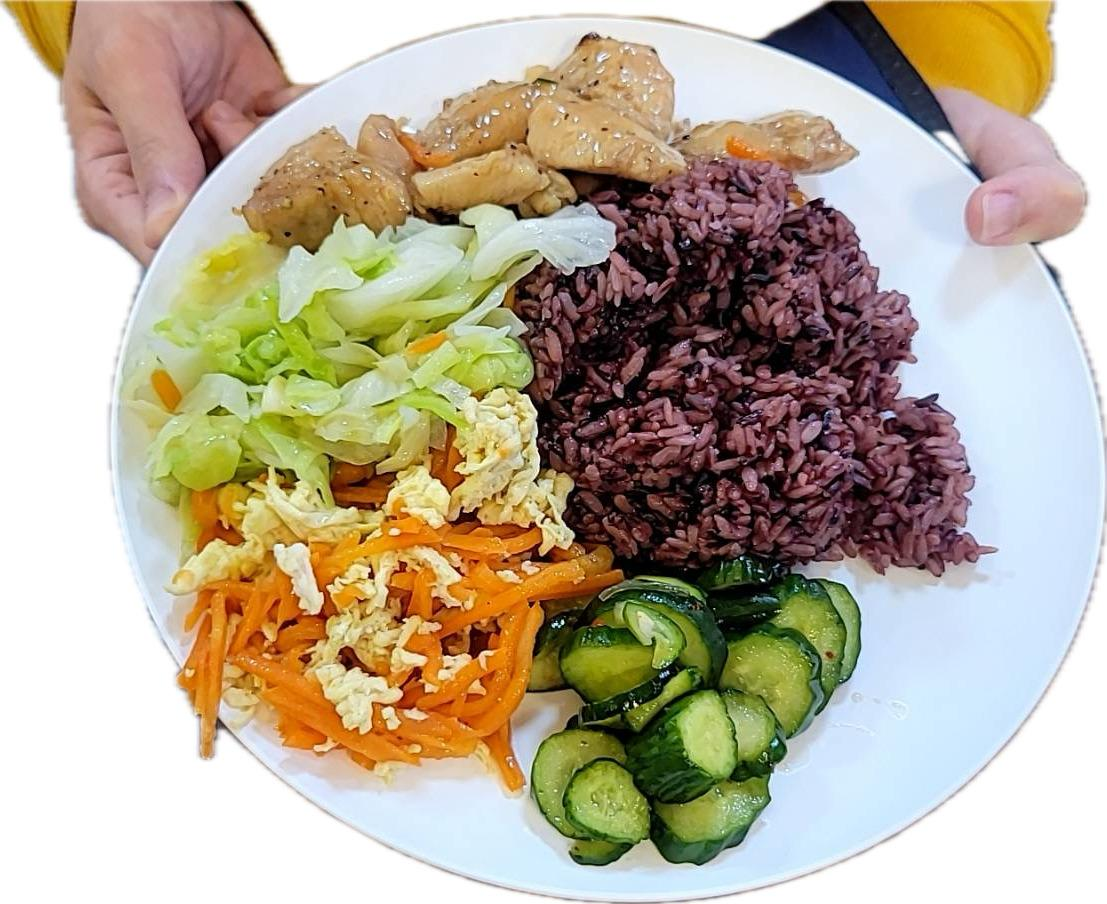big fried chicken leg: (104, 10, 1107, 904)
braised fish: (526, 158, 984, 580)
braised fish fillet: (171, 390, 606, 766), (136, 198, 606, 499), (520, 546, 874, 875)
braised pork: (246, 38, 848, 243)
